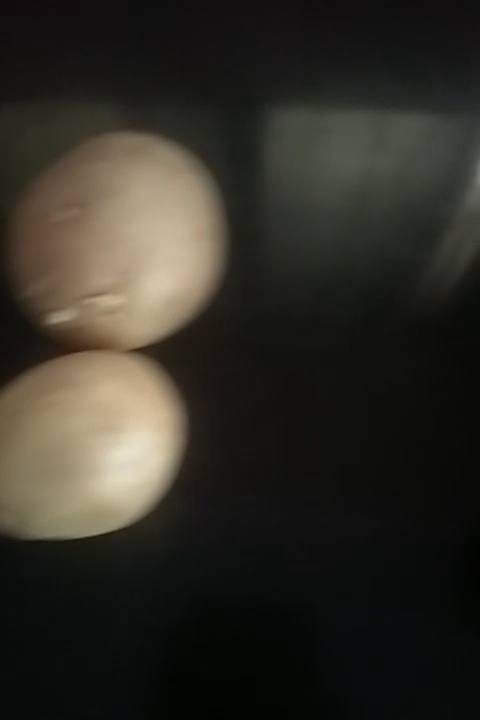potato: (21, 135, 237, 354), (1, 335, 171, 545)
